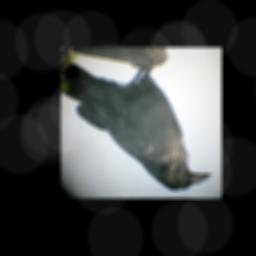Crow: (61, 54, 213, 192)
